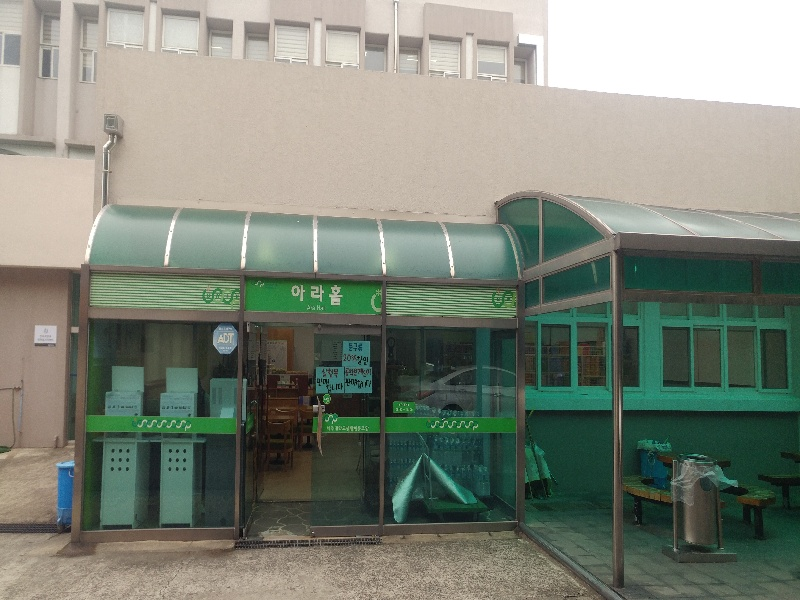Ara Hall: (102, 47, 790, 526), (88, 205, 520, 526)
